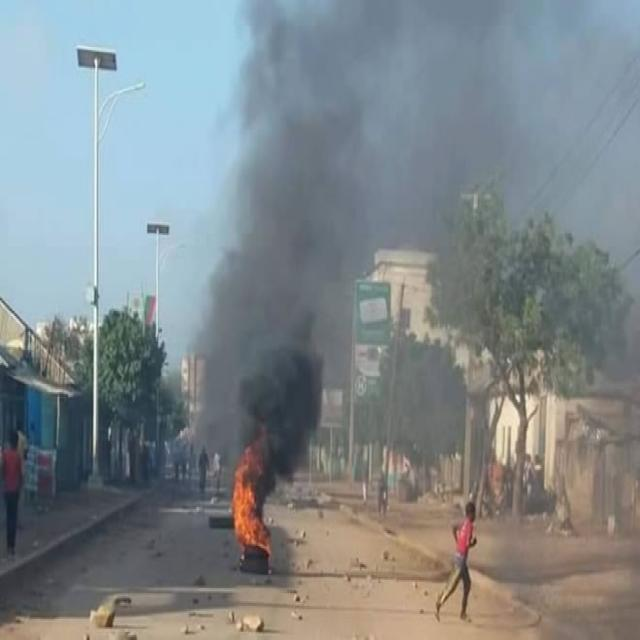fire: (232, 454, 271, 551)
smoke: (248, 19, 625, 214), (234, 238, 345, 409)
